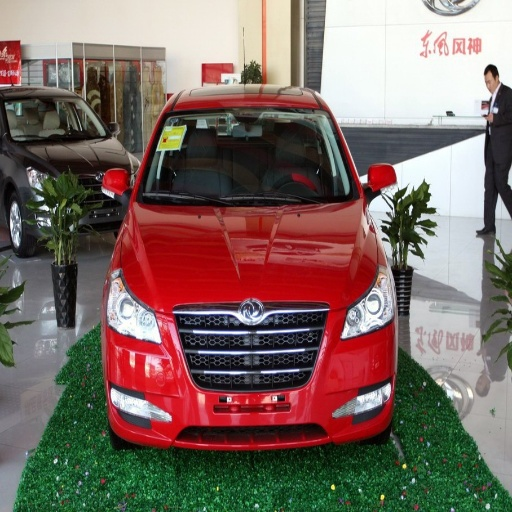front_bumper: (105, 299, 393, 450)
front_right_light: (106, 266, 163, 344)
hood: (122, 201, 377, 311)
